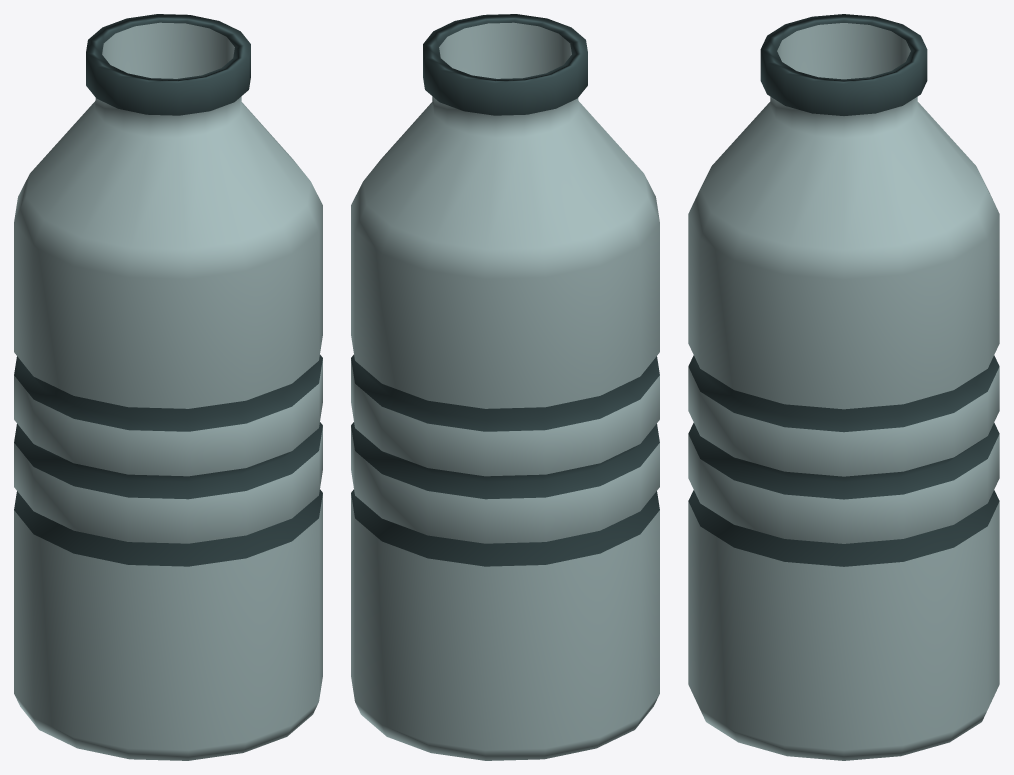
The model's file is BottleOfWater.fbx.
The picture shows the model from 3 angles, left to right: view 1: azimuth 30°, elevation 25°; view 2: azimuth 150°, elevation 25°; view 3: azimuth 270°, elevation 25°; orthographic projection.
Parts seen in each view (by area): view 1: BottleOfWater; view 2: BottleOfWater; view 3: BottleOfWater.
Part boxes in pixels (x1,y1,x2,y2): BottleOfWater: [14, 14, 322, 760]; BottleOfWater: [351, 14, 659, 760]; BottleOfWater: [688, 14, 999, 760].
Bounding box in the file's own units: 7.32 × 16.98 × 7.32.
